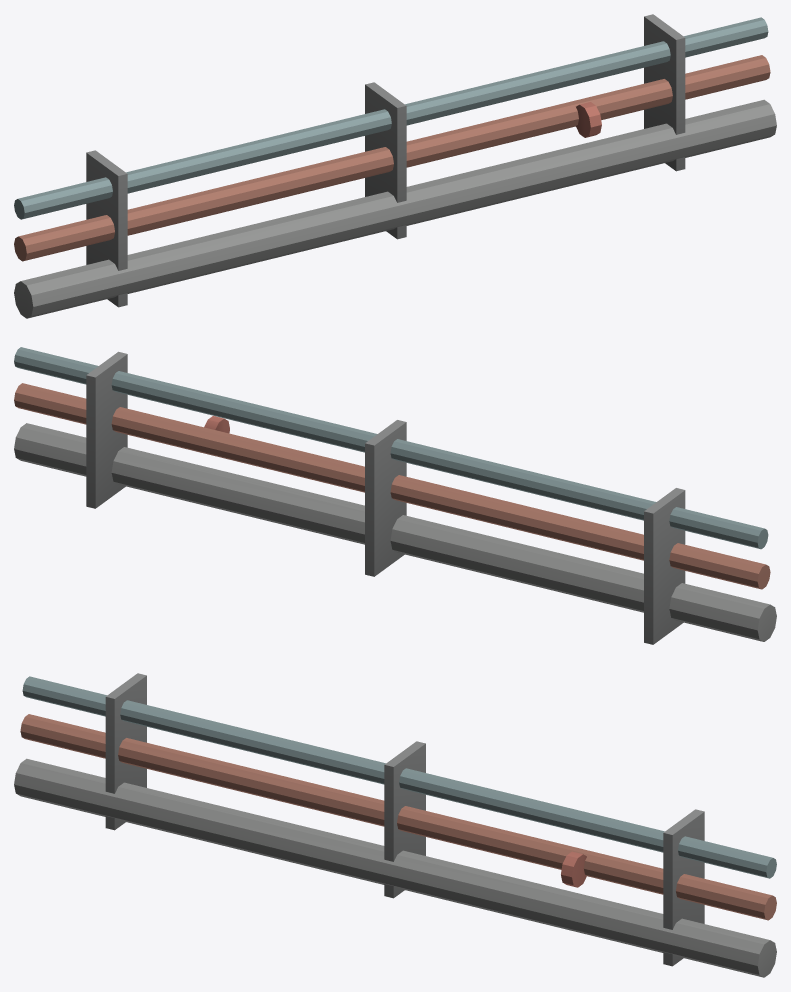
Rendered from int_wallpipes.glb.
3 views of the same model, one above another, from view 1: azimuth 30°, elevation 25°; view 2: azimuth 150°, elevation 25°; view 3: azimuth 330°, elevation 25° (orthographic).
Parts seen in each view (by area): view 1: int_wallpipes; view 2: int_wallpipes; view 3: int_wallpipes.
Part boxes in pixels (x1,y1,x2,y2): int_wallpipes: (14,14,776,318); int_wallpipes: (14,347,776,644); int_wallpipes: (14,673,776,977).
Bounding box in the file's own units: 8 × 1.35 × 0.76.
